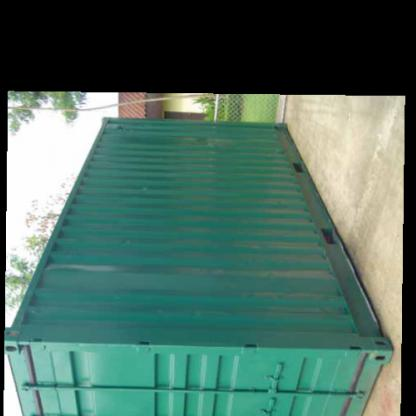Damage: (182, 130, 225, 198), (222, 262, 338, 286), (42, 255, 140, 277), (236, 232, 330, 254)
